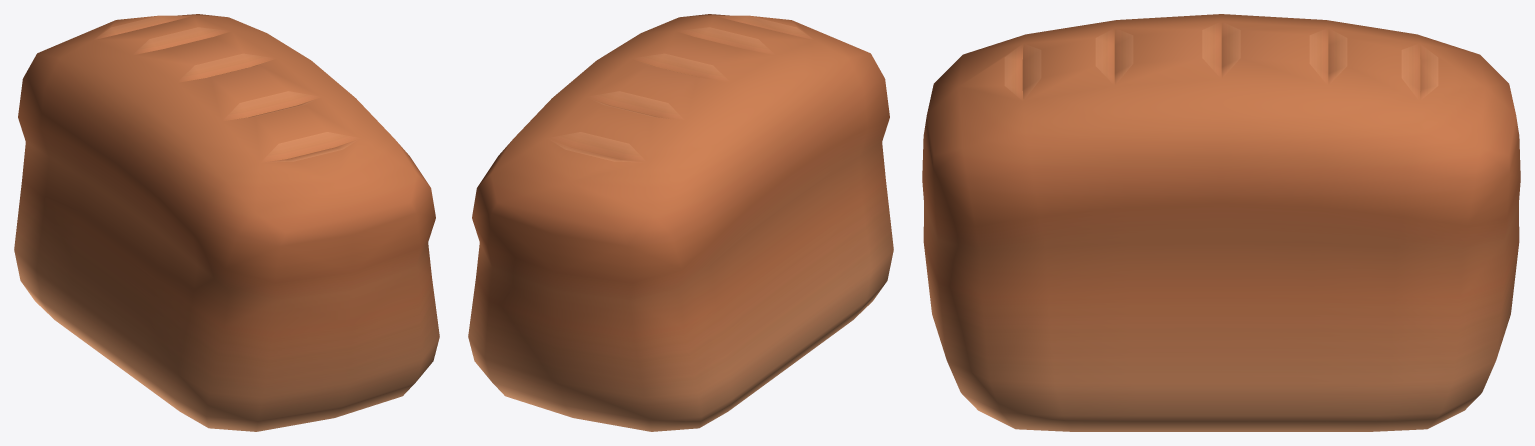
File: Bread-transformed.glb
3 views of the same model, side by side, from view 1: azimuth 30°, elevation 25°; view 2: azimuth 150°, elevation 25°; view 3: azimuth 270°, elevation 25° (orthographic). The views are drawn at different scales.
Parts seen in each view (by area): view 1: bread; view 2: bread; view 3: bread.
Part boxes in pixels (x1,y1,x2,y2): bread: [14, 14, 439, 431]; bread: [468, 14, 893, 431]; bread: [922, 14, 1520, 431].
Size of the model in its own units: 0.4612 by 0.5155 by 0.8404.
1 material, 1 textured.
